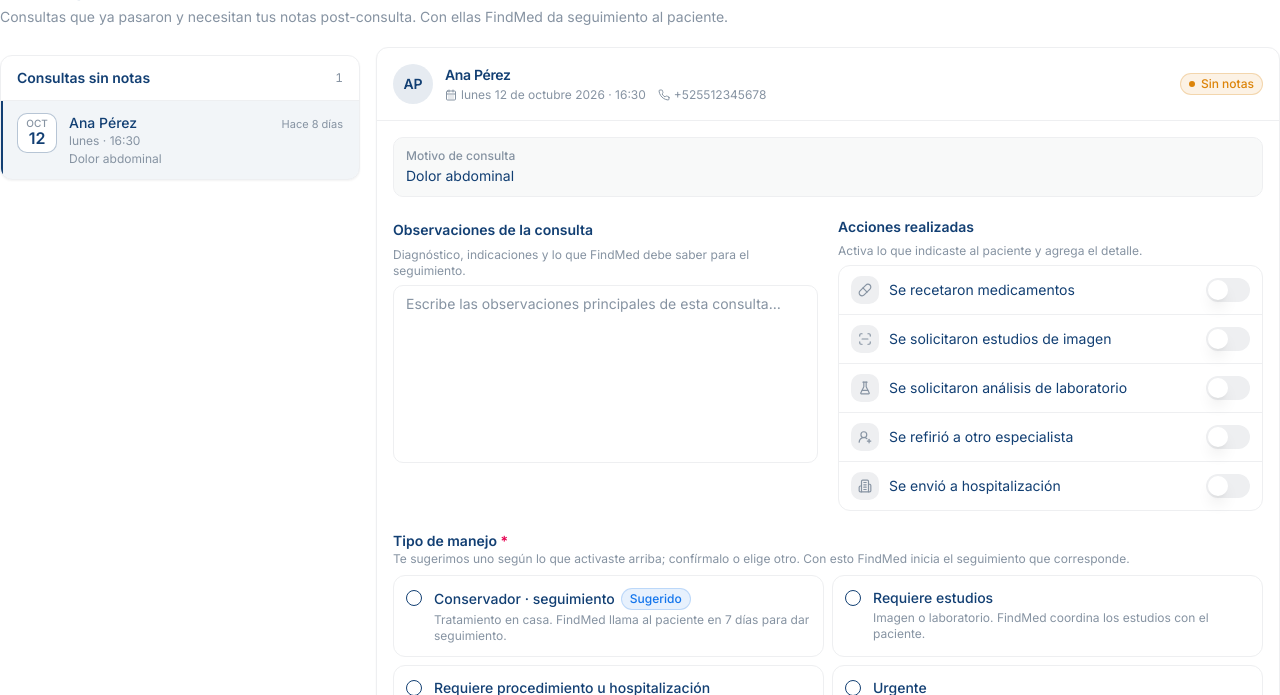
Scenario: Por completar — tipo de manejo › pide el tipo de manejo, sugiere según lo capturado y envía lo que el médico confirma
Later steps or results of the test are not shown.
Check: the text "Ana Pérez" below "Consultas sin notas" is shown, box [69,114,137,131]
Check: the text "Sugerido" is shown, box [621,588,691,610]
Click the switch named "Se envió a hospitalización" next to "Se envió a hospitalización" at (1228, 486), box [1206,474,1250,498]
(page scrolled)
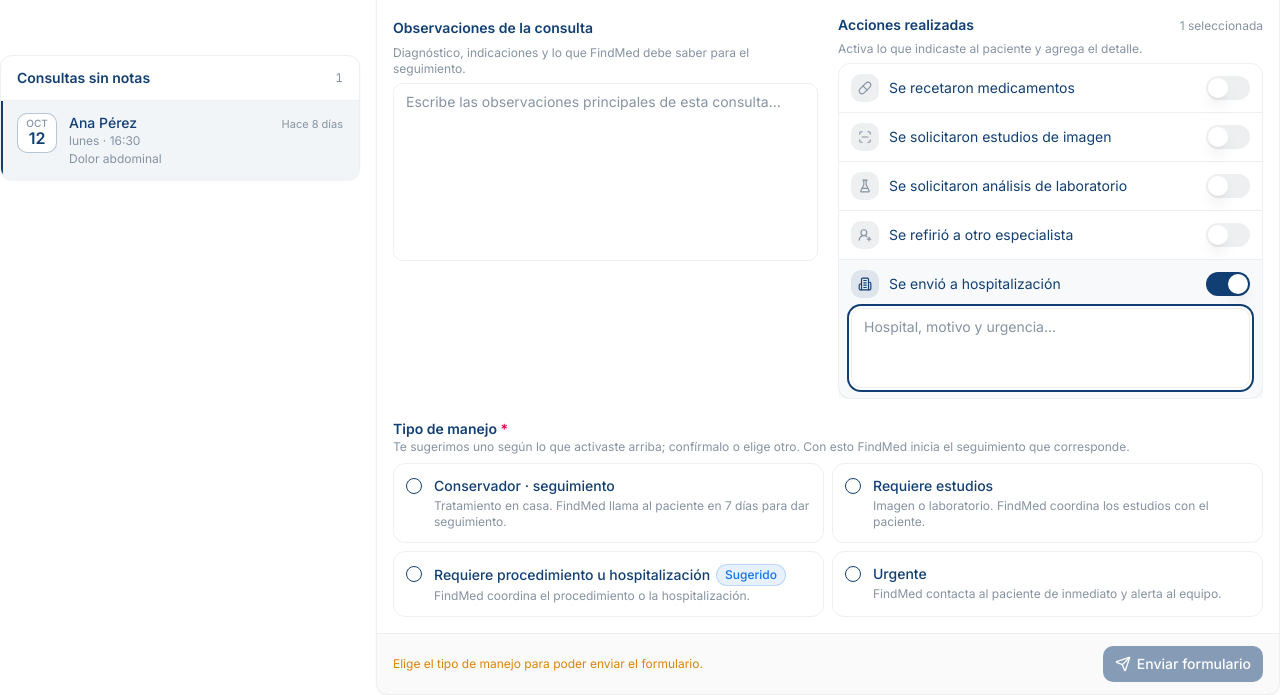
Check: the text "Sugerido" is shown, box [716,564,786,586]
# El médico decide otra cosa: urgente.
Click the radio button named "Urgente" next to "Urgente" at (853, 574), box [845,566,861,582]
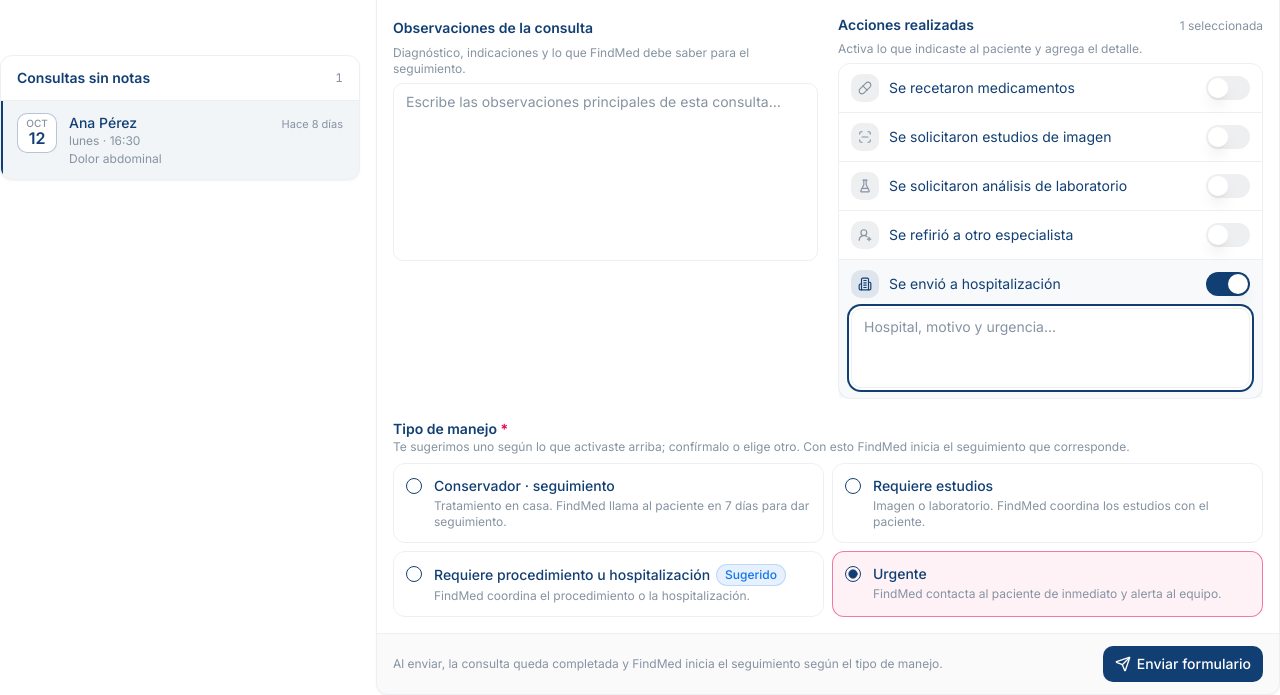
Check: the button "Enviar formulario" is enabled, box [1103,646,1263,682]
